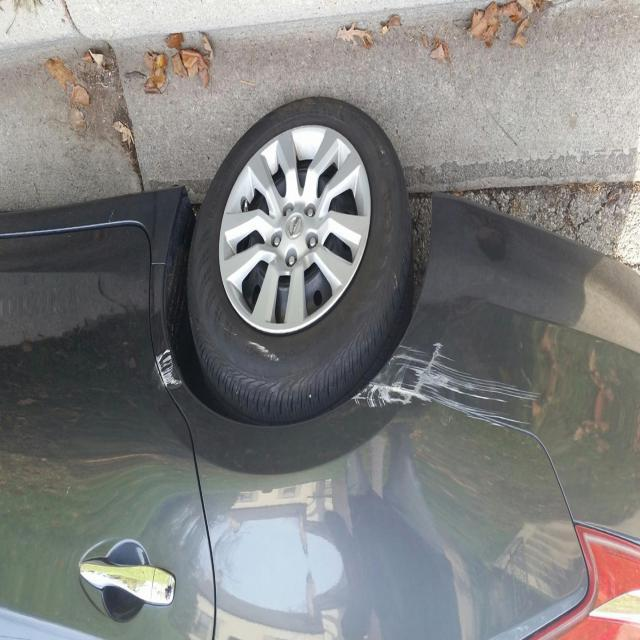scratch: (344, 327, 582, 432), (144, 338, 186, 411)
